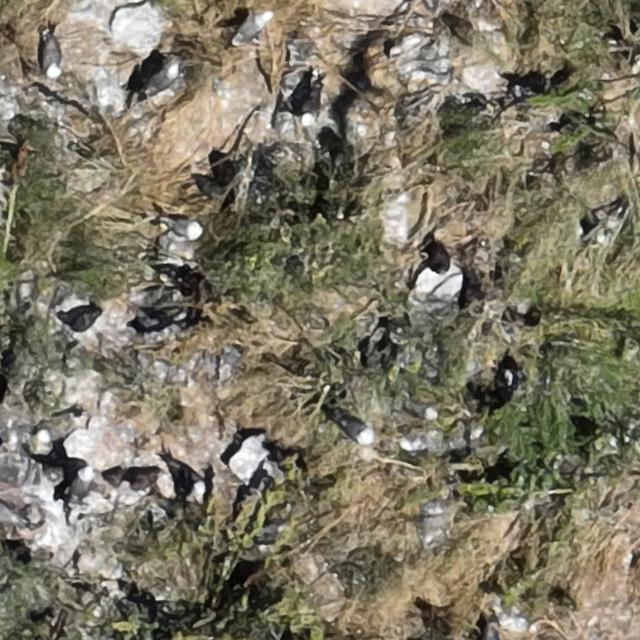umineko: (142, 57, 178, 101), (36, 412, 81, 446), (164, 459, 210, 492), (67, 464, 94, 510), (234, 12, 267, 40), (340, 419, 372, 444), (44, 37, 62, 76), (169, 219, 203, 239), (405, 402, 437, 420), (302, 92, 318, 125), (0, 501, 18, 523)
